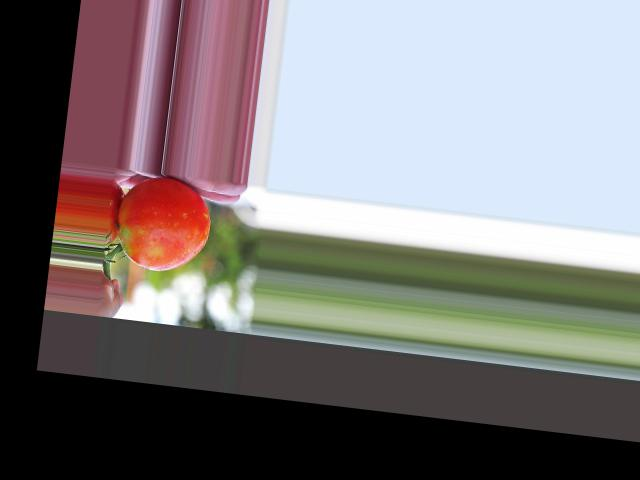tomato: (113, 173, 215, 276)
